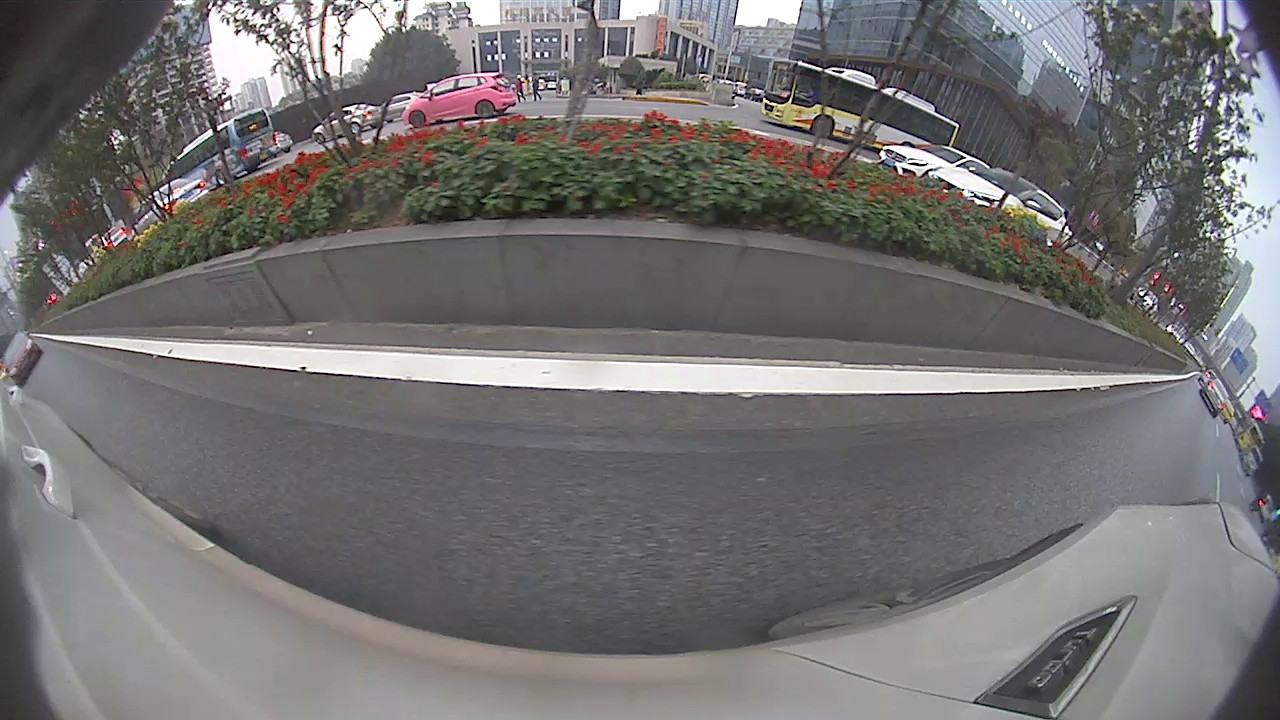car: (1, 328, 43, 386), (1198, 374, 1230, 418)
front: (811, 114, 835, 140), (408, 108, 426, 130)
rear: (474, 99, 496, 121)
